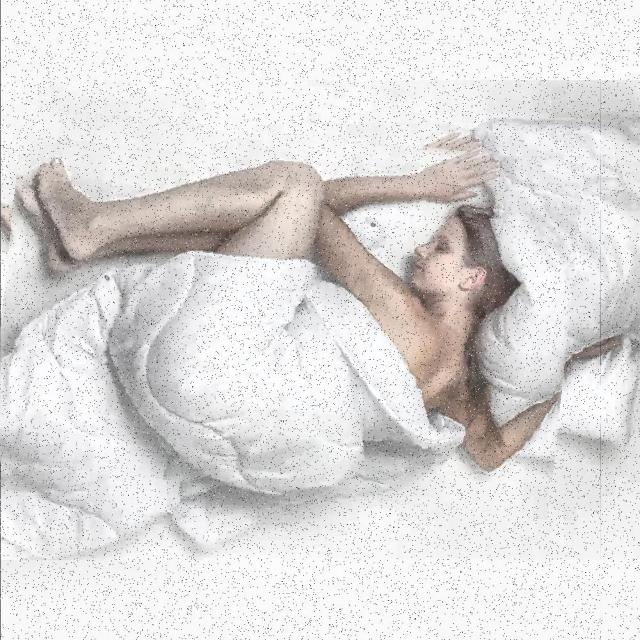Supine: (15, 152, 560, 491)
